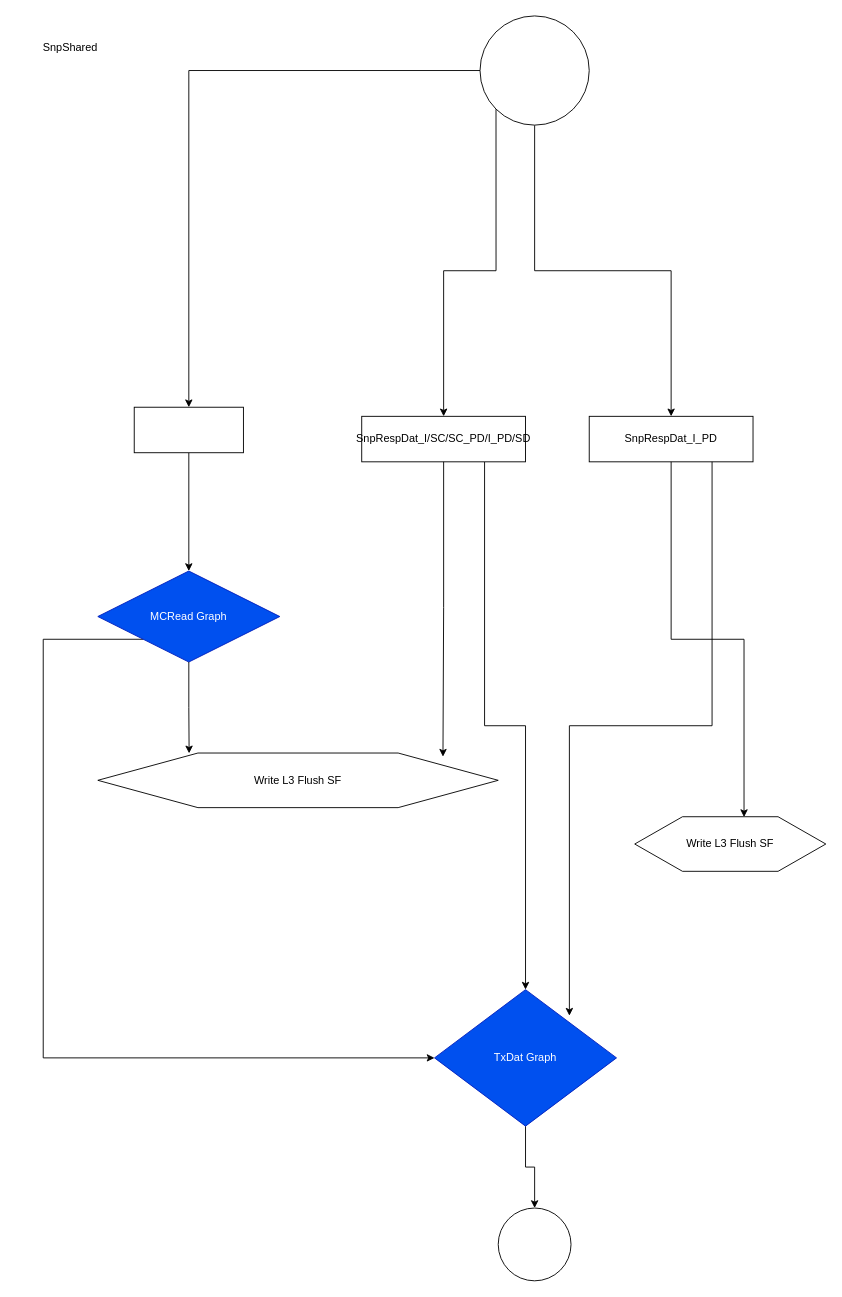
Image size: 842x1297. Some labels were removed from this diagram. The shapes that lost their labels are listed below. From the top down, each one's centre as x and y in pixels, then its label:
(534,70): TxSnpShared Send
(188,429): SnpResp_I/SC
(534,1244): EXIT
